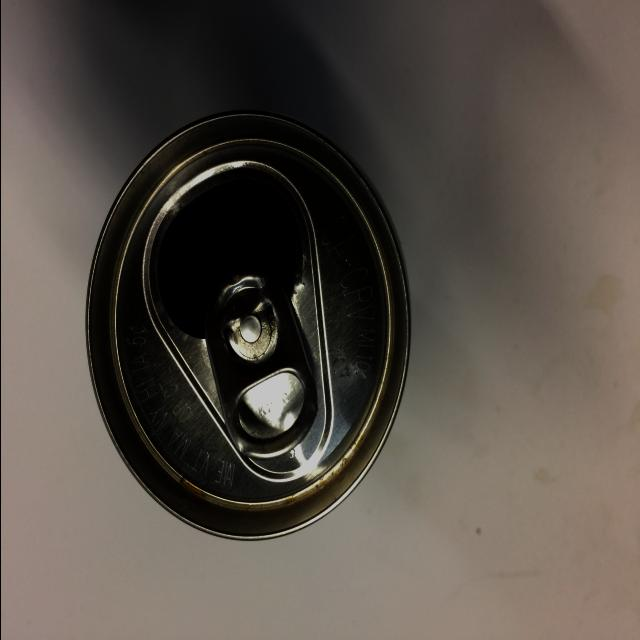Metal: (78, 100, 414, 571)
